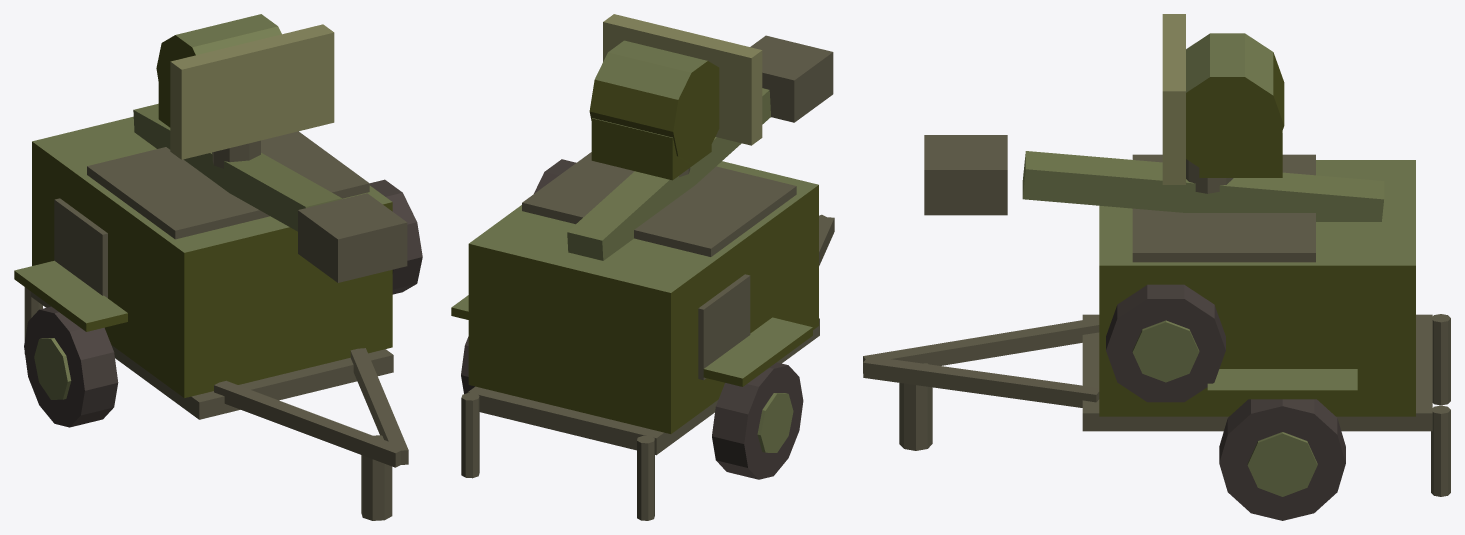
File: SM_Radar_v3_Plegado_LOD0.fbx
3 renders of one model, left to right at view 1: azimuth 30°, elevation 25°; view 2: azimuth 150°, elevation 25°; view 3: azimuth 270°, elevation 25°, orthographic. The views are drawn at different scales.
Visible parts, largest first — view 1: SM_bloques.radar_v3_LOD0; view 2: SM_bloques.radar_v3_LOD0; view 3: SM_bloques.radar_v3_LOD0.
Part boxes in pixels (x1,y1,x2,y2): SM_bloques.radar_v3_LOD0: (14,14,422,520); SM_bloques.radar_v3_LOD0: (451,14,834,520); SM_bloques.radar_v3_LOD0: (863,14,1450,520).
Size of the model in its own units: 2.16 by 2.61 by 3.53.
